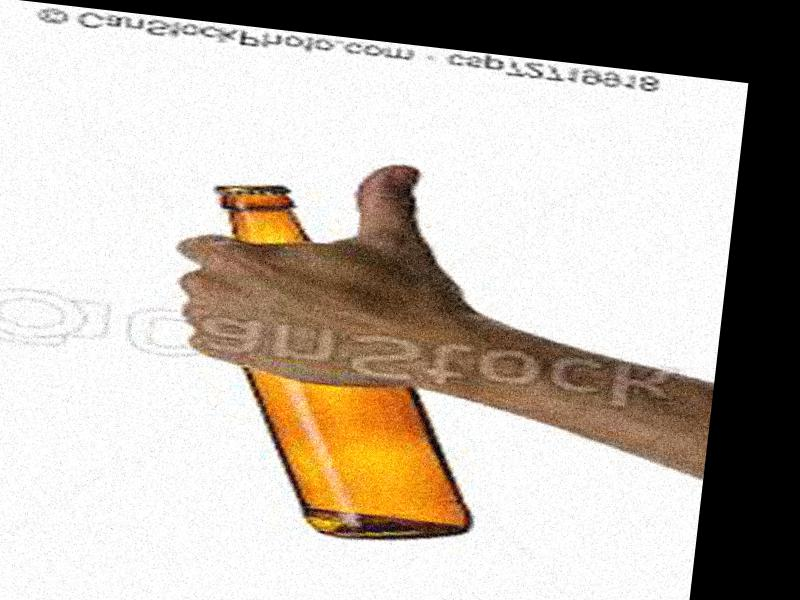Beer: (181, 181, 509, 551)
